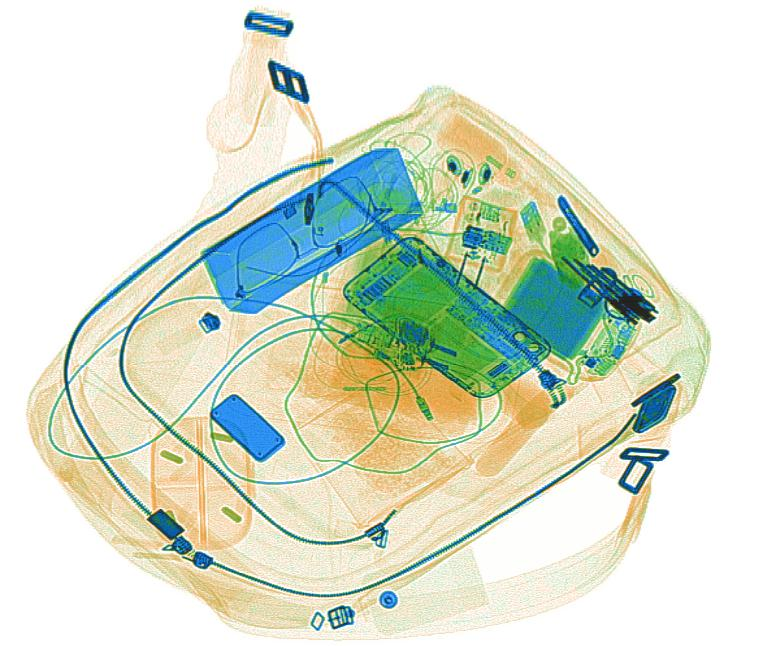plasticBottleWithaNozzle: (432, 112, 541, 198)
